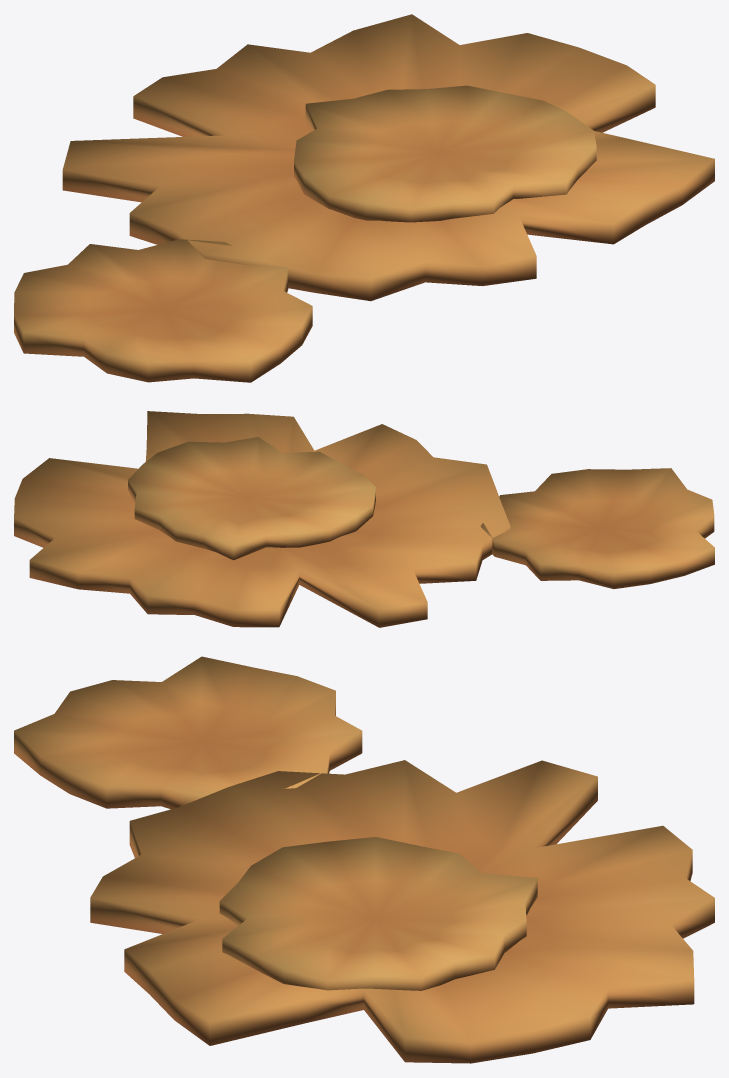
File: lichen.lod1.glb
3 views of the same model, one above another, from view 1: azimuth 30°, elevation 25°; view 2: azimuth 150°, elevation 25°; view 3: azimuth 270°, elevation 25° (orthographic). The views are drawn at different scales.
Parts seen in each view (by area): view 1: lichen_s1_lod1; view 2: lichen_s1_lod1; view 3: lichen_s1_lod1.
Part boxes in pixels (<box>): lichen_s1_lod1: <box>14,14,714,382</box>; lichen_s1_lod1: <box>14,411,714,627</box>; lichen_s1_lod1: <box>14,656,714,1063</box>.
Size of the model in its own units: 0.4301 by 0.0172 by 0.3316.
